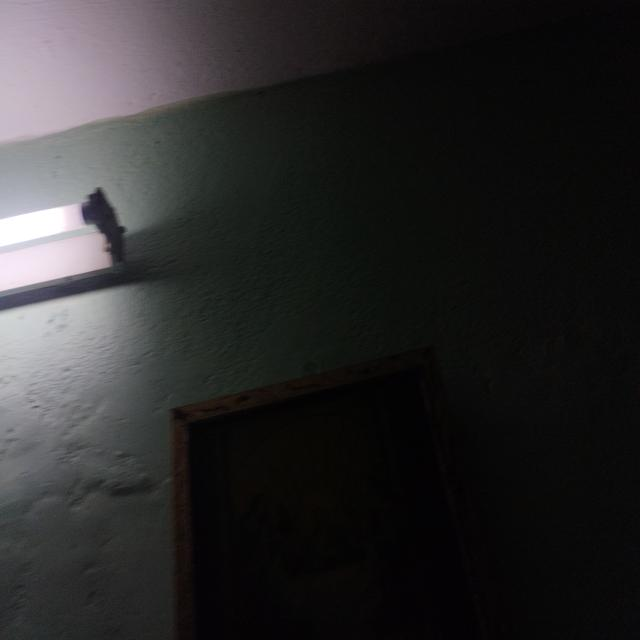tubelight_on: (0, 180, 139, 305)
